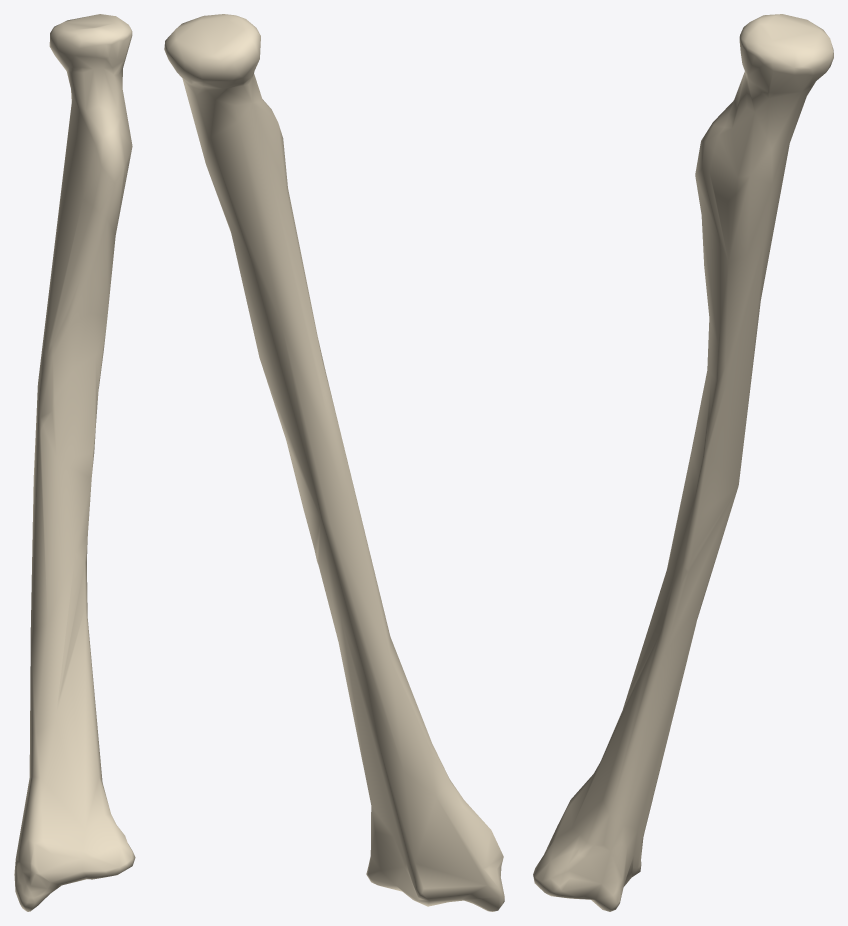
The model's file is radius-r.glb.
3 renders of one model, left to right at view 1: azimuth 30°, elevation 25°; view 2: azimuth 150°, elevation 25°; view 3: azimuth 270°, elevation 25°, orthographic. The views are drawn at different scales.
Parts seen in each view (by area): view 1: Radius.r; view 2: Radius.r; view 3: Radius.r.
Part boxes in pixels (x1,y1,x2,y2): Radius.r: (14, 14, 135, 911); Radius.r: (164, 14, 504, 911); Radius.r: (533, 14, 833, 911).
Size of the model in its own units: 0.0618 by 0.237 by 0.0687.
